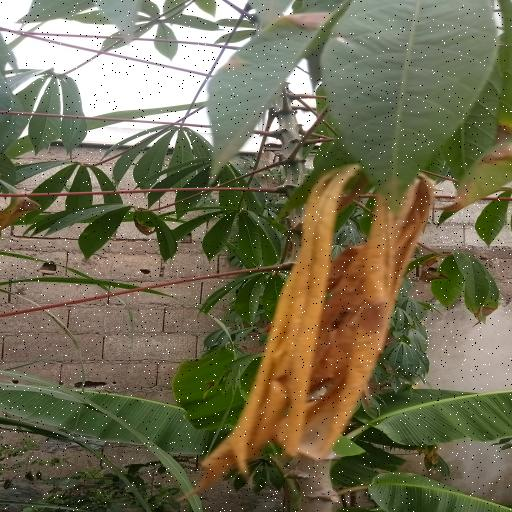Cassava_Root_Rot: (192, 160, 456, 480)
